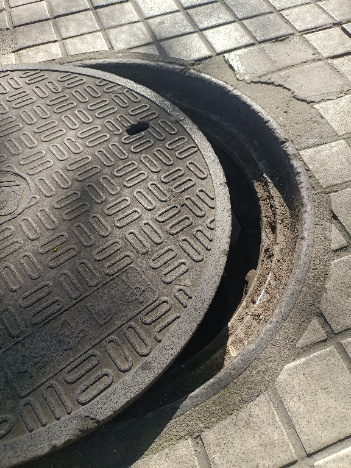uncovered: (1, 50, 311, 468)
